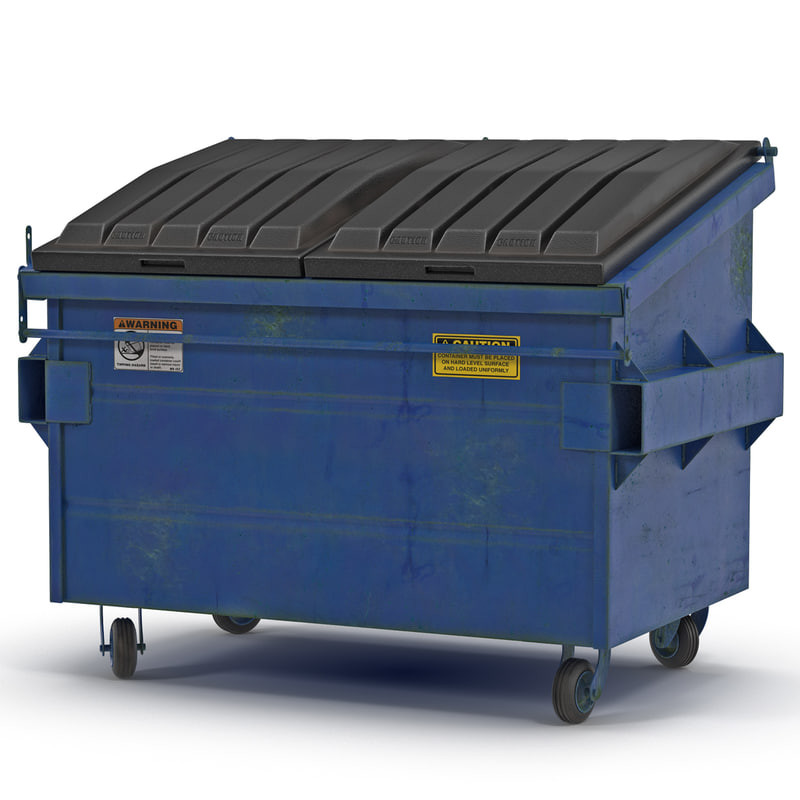Dumpster: (20, 121, 788, 721)
